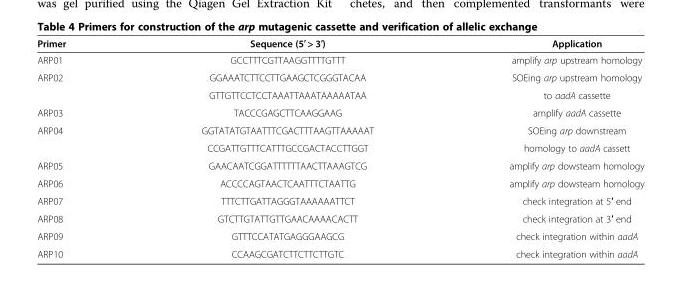table: (36, 37, 643, 259)
table column: (133, 37, 440, 259), (440, 37, 643, 259), (36, 37, 133, 259)
table column header: (36, 37, 643, 51)
table row: (36, 68, 643, 86), (36, 103, 643, 121), (36, 138, 643, 156), (36, 156, 643, 174), (36, 191, 643, 209), (36, 209, 643, 227), (36, 51, 643, 68), (36, 86, 643, 103), (36, 121, 643, 138), (36, 174, 643, 191), (36, 227, 643, 244), (36, 244, 643, 259), (36, 37, 643, 51)
table spanning cell: (36, 68, 133, 103), (36, 121, 133, 156)
